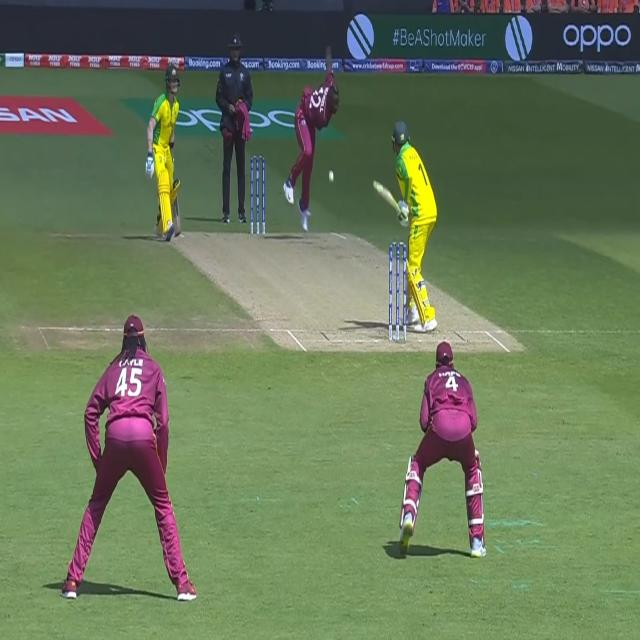ball: (326, 166, 338, 188)
